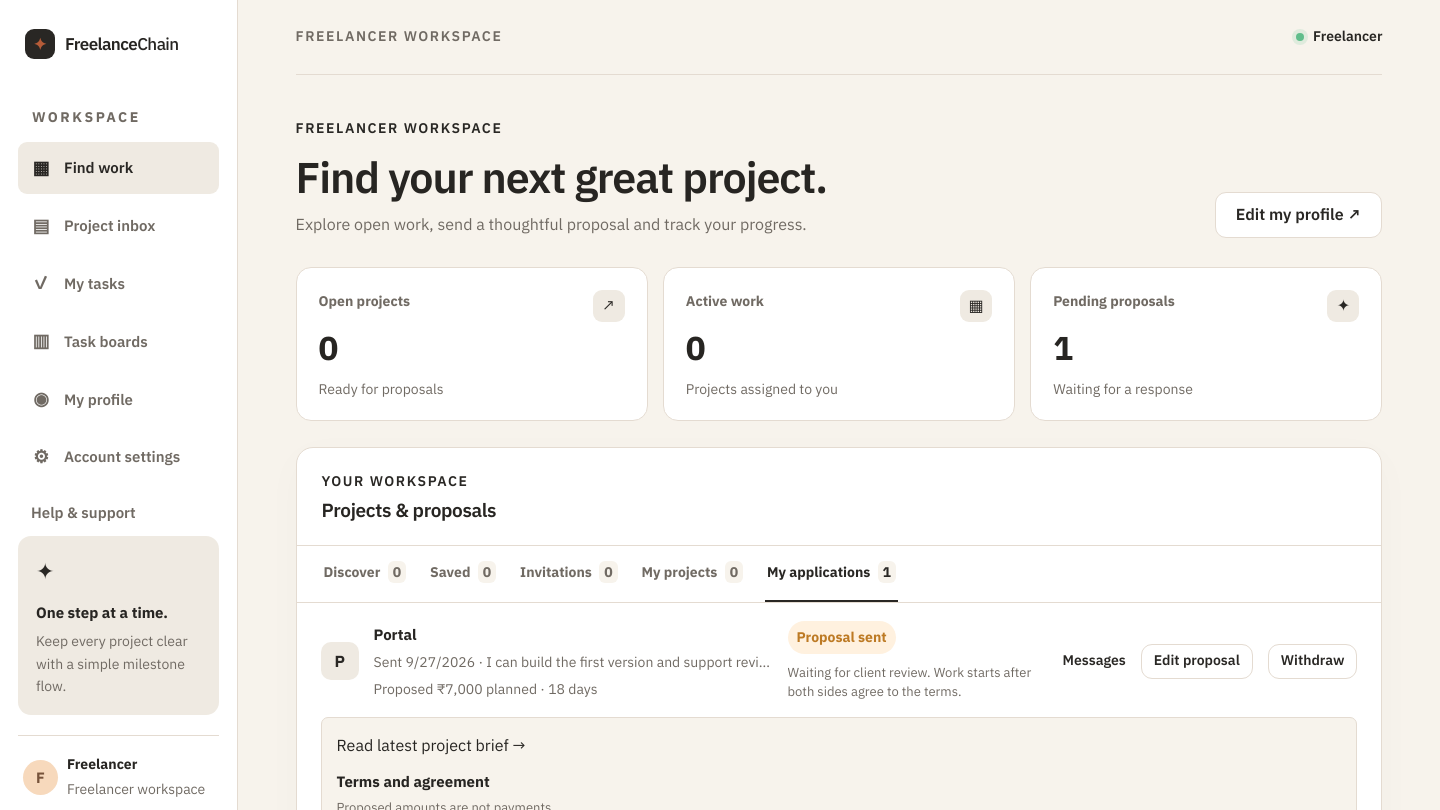
Scenario: returning from a brief opens applications where the freelancer can edit and withdraw
The width and height of the screenshot is (1440, 810).
Expected: the text "Proposal sent" is shown, [788, 621, 896, 654]
Click the button "Edit proposal".
click(1197, 661)  # box [1141, 644, 1253, 679]
(page scrolled)
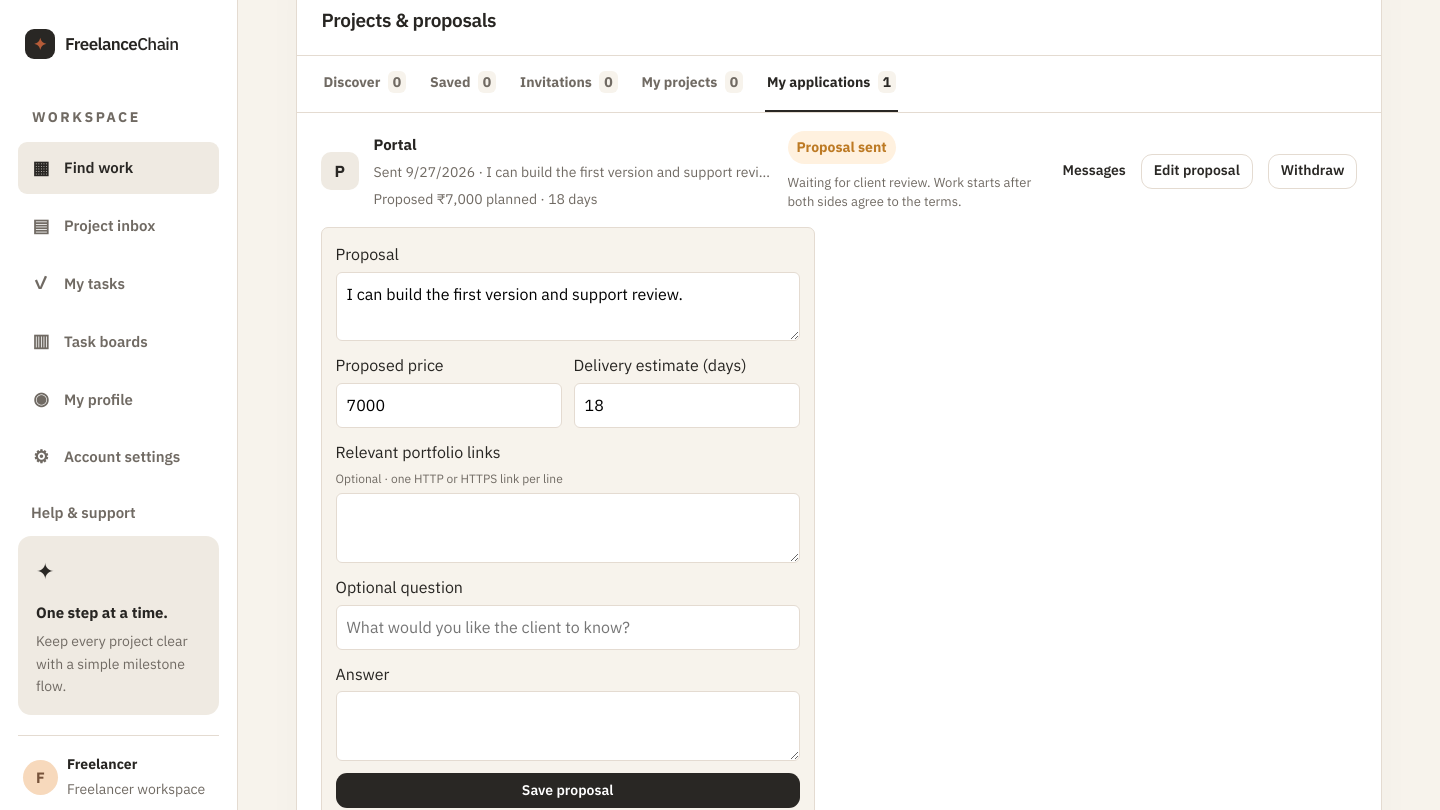
Replace the text in the number field labelled "Proposed price" with "6500" at point(449, 406), box [336, 383, 562, 428]
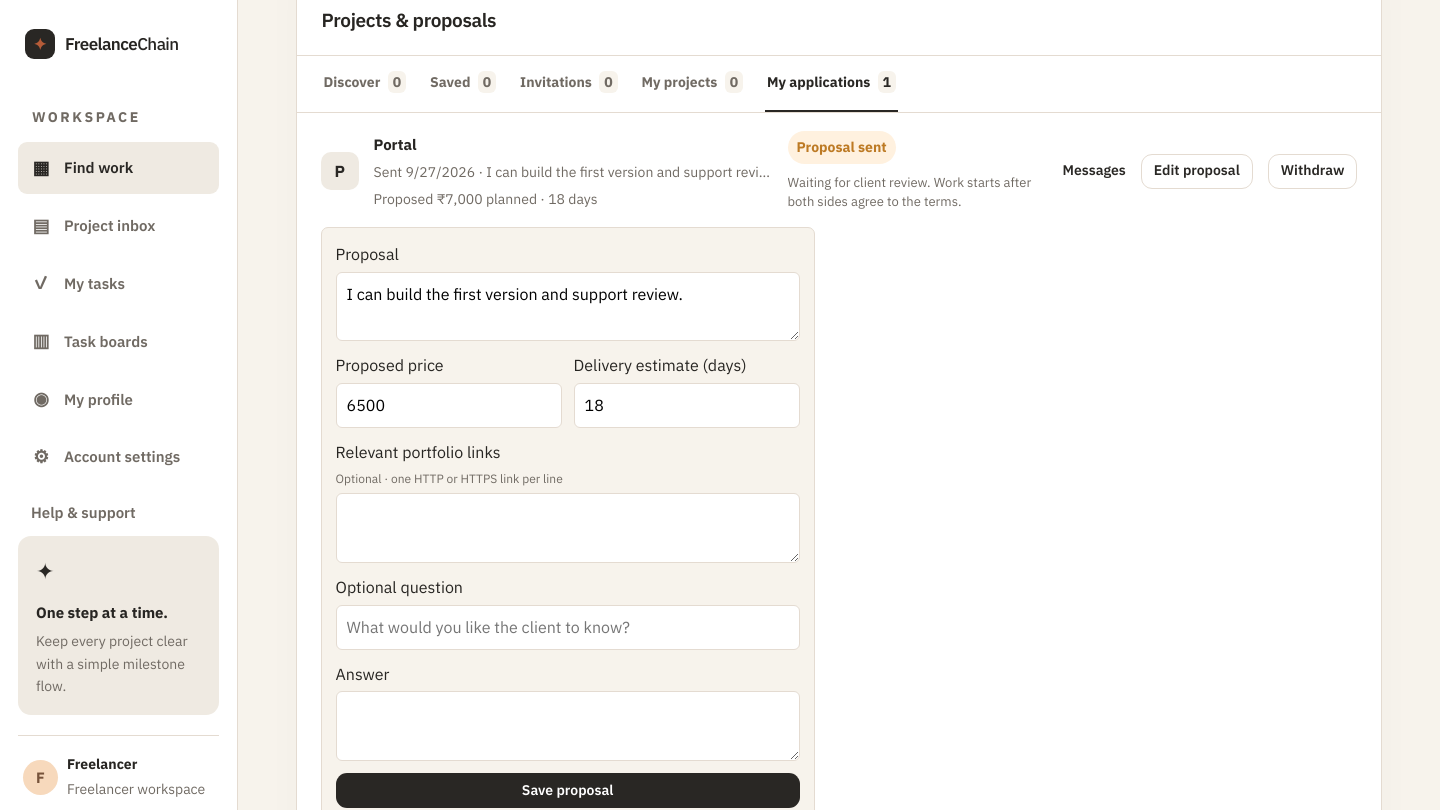
Click the button "Save proposal".
click(568, 790)  # box [336, 773, 800, 808]
(page scrolled)
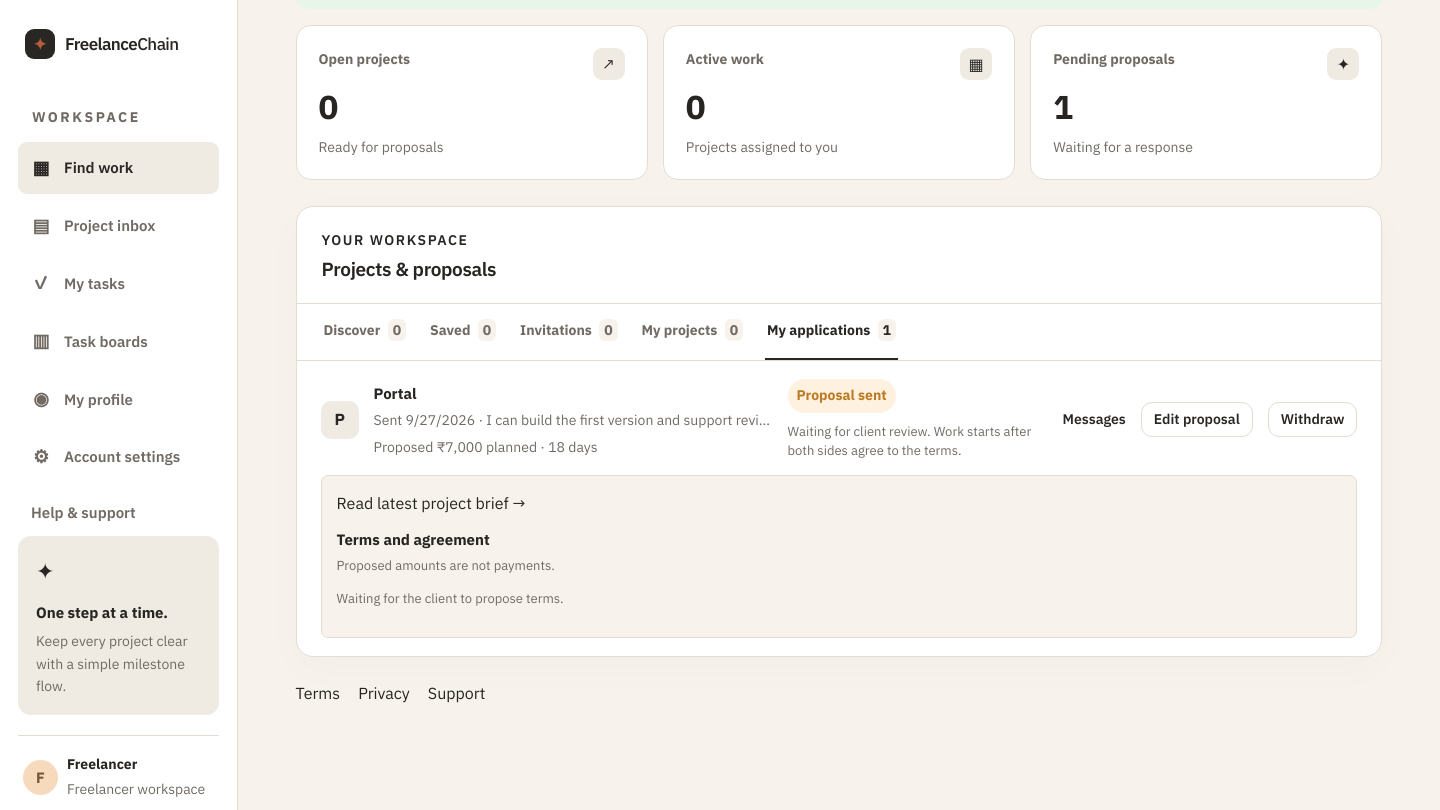
Click the button "Withdraw".
click(1313, 420)  # box [1268, 402, 1357, 437]
(page scrolled)
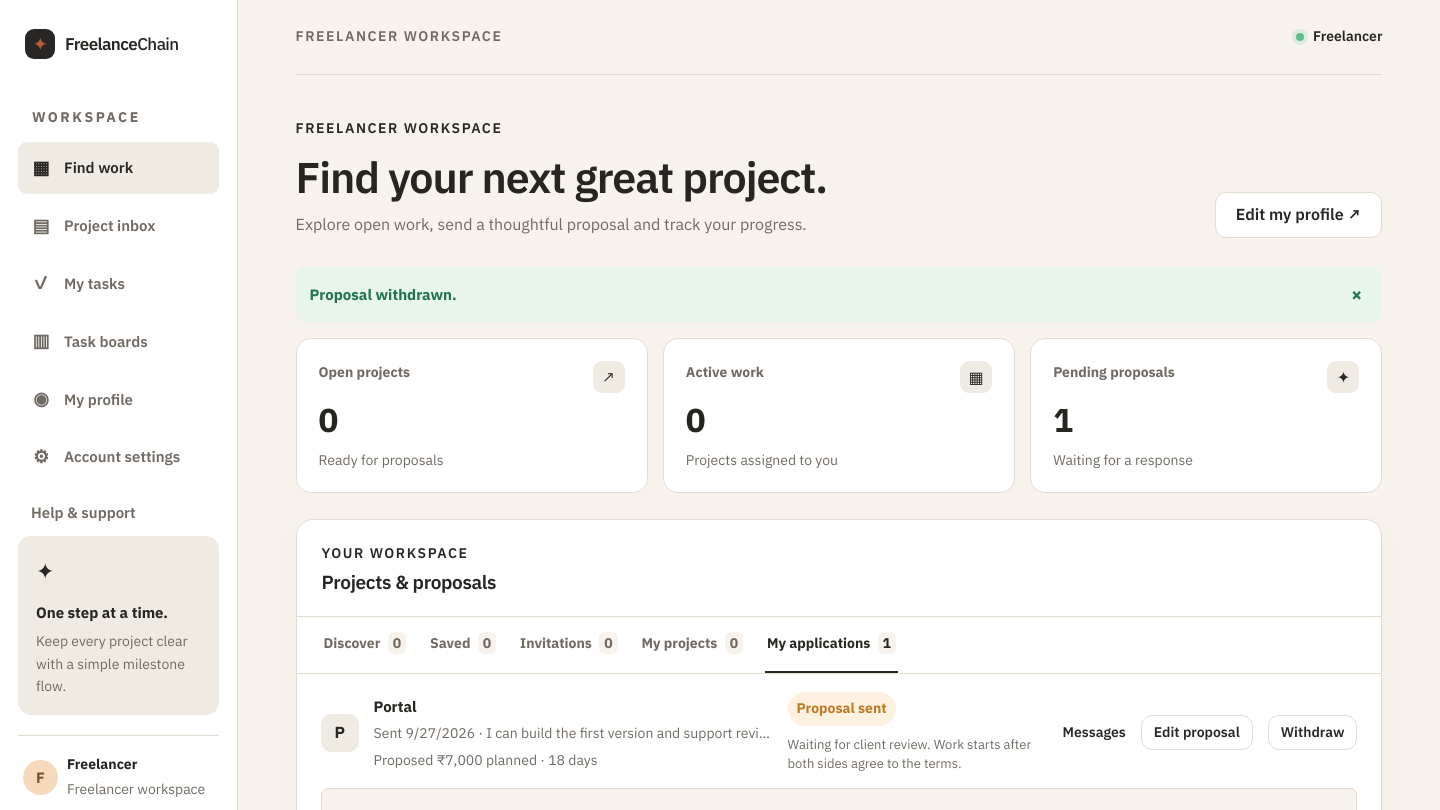
Expected: the text "Proposal withdrawn." is shown, [310, 285, 457, 304]
